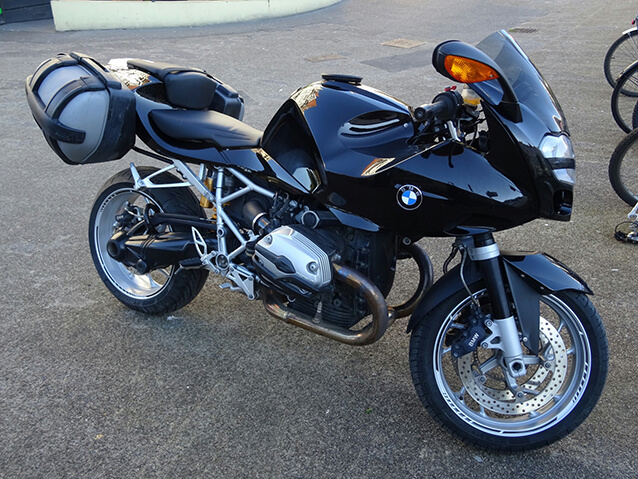motorbike: (21, 27, 612, 458)
